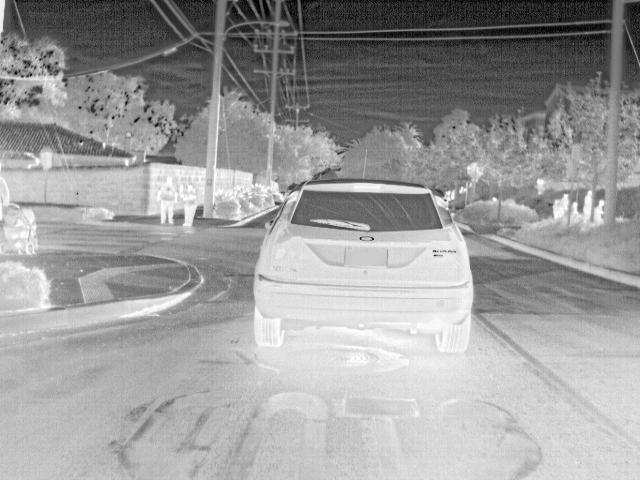car: (254, 176, 476, 354)
person: (159, 175, 177, 226), (183, 179, 197, 228), (583, 188, 595, 220), (559, 190, 572, 218), (594, 199, 607, 225), (12, 218, 27, 239), (550, 197, 562, 217), (568, 200, 581, 218)
